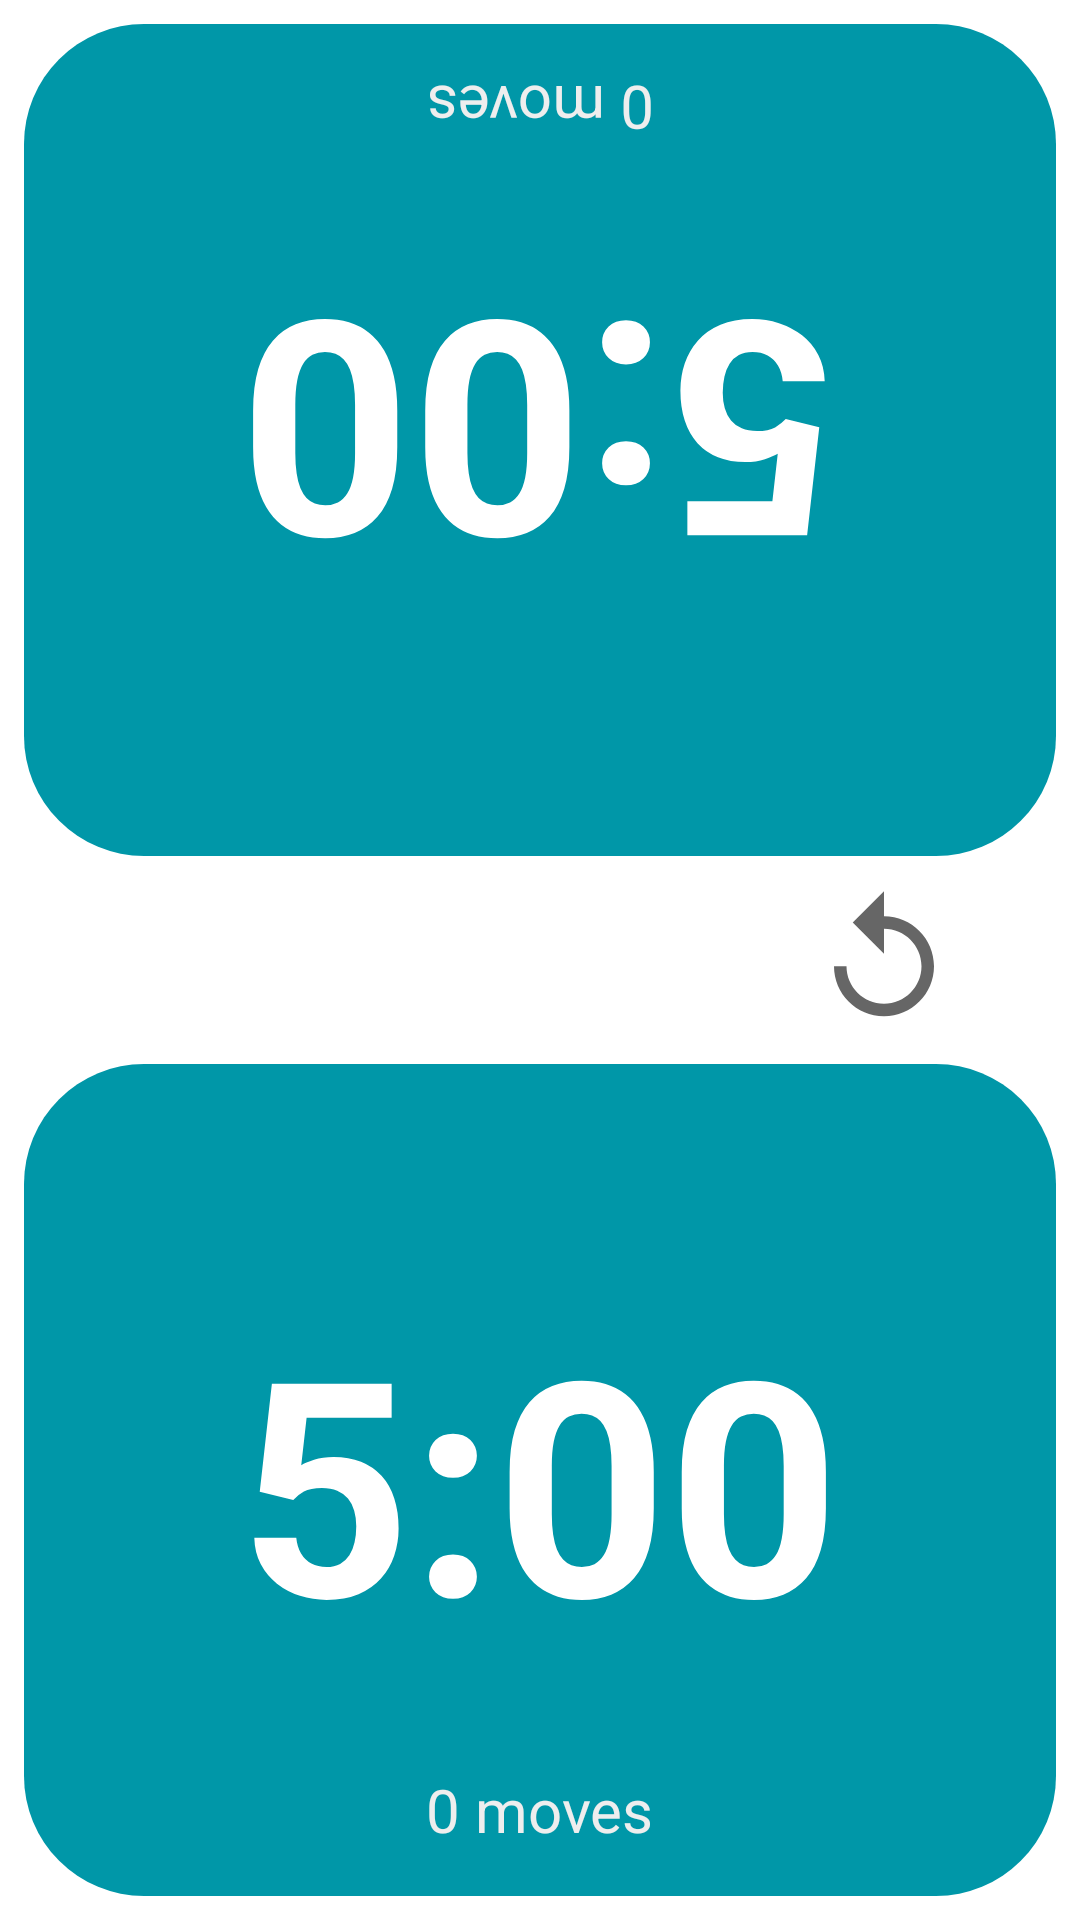

Where icons sit on this 1080*1920 app screen, as (x1, y1, x2, y2):
reset: (834, 891, 934, 1017)
